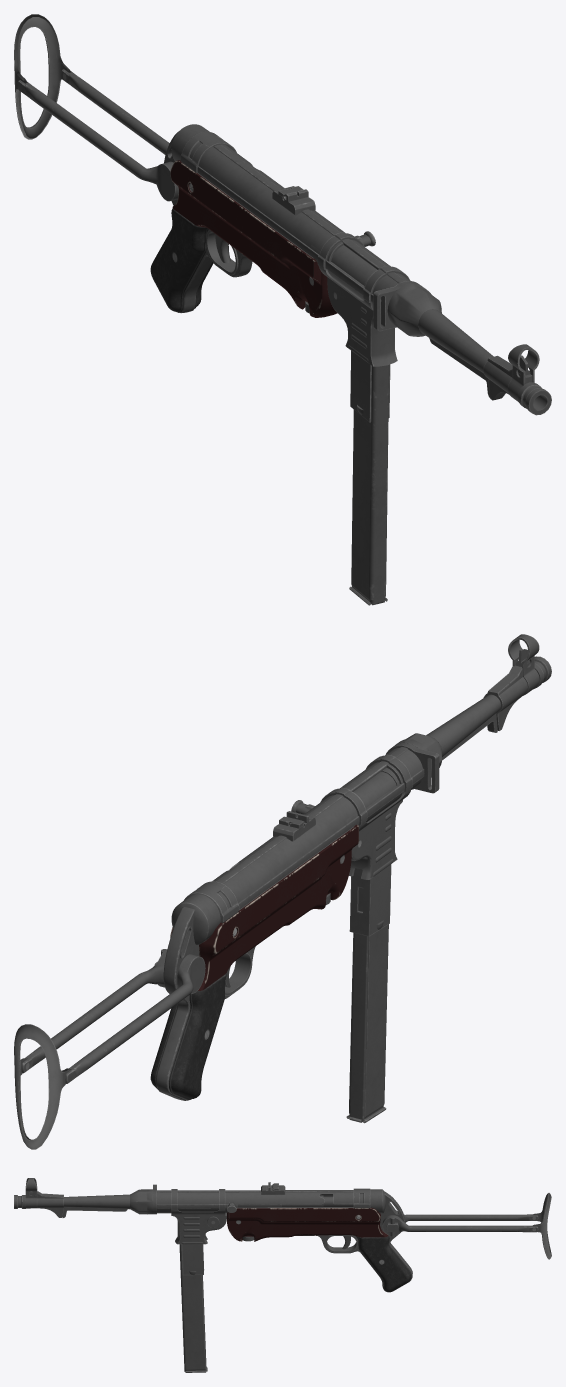
3 views of the same model, one above another, from view 1: azimuth 30°, elevation 25°; view 2: azimuth 150°, elevation 25°; view 3: azimuth 270°, elevation 25° (orthographic). The views are drawn at different scales.
Visible parts, largest first — view 1: MP40, Mag, Stock, Bolt; view 2: MP40, Mag, Stock, Bolt; view 3: MP40, Mag, Stock.
Part boxes in pixels (left/top/right/bottom): MP40: left=150, top=124, right=551, bottom=415; Mag: left=349, top=350, right=390, bottom=605; Stock: left=14, top=14, right=178, bottom=201; Bolt: left=310, top=231, right=376, bottom=286; MP40: left=150, top=634, right=551, bottom=1100; Mag: left=346, top=864, right=391, bottom=1123; Stock: left=14, top=949, right=205, bottom=1149; Bolt: left=291, top=767, right=399, bottom=823; MP40: left=14, top=1178, right=412, bottom=1292; Mag: left=179, top=1244, right=207, bottom=1372; Stock: left=382, top=1193, right=551, bottom=1259.
Bounding box in the file's own units: 3.43 × 17.21 × 43.72.
